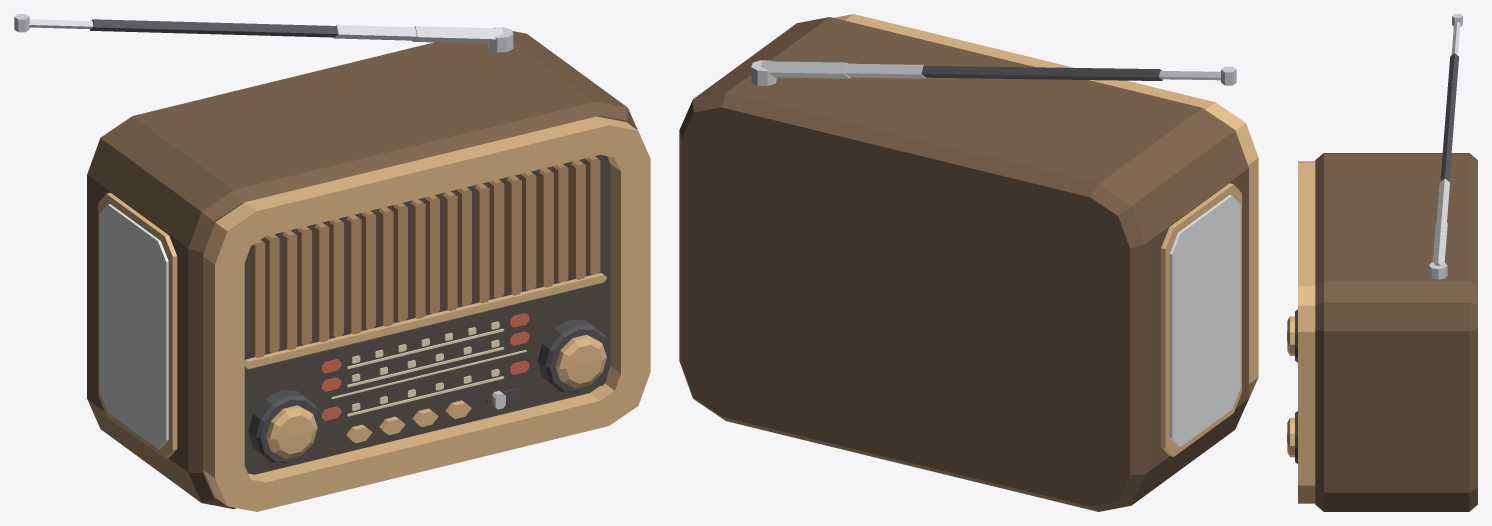
File: radio-retro.fbx
3 renders of one model, left to right at view 1: azimuth 30°, elevation 25°; view 2: azimuth 150°, elevation 25°; view 3: azimuth 270°, elevation 25°, orthographic. The views are drawn at different scales.
Visible parts, largest first — view 1: Frente, Gabinete, Controles, Antena; view 2: Gabinete, Antena, Frente; view 3: Gabinete, Frente, Antena, Controles.
Part boxes in pixels (x1,y1,x2,y2): Frente: (203, 116, 650, 511); Gabinete: (87, 27, 637, 508); Controles: (248, 319, 609, 463); Antena: (14, 14, 513, 52); Gabinete: (679, 17, 1248, 511); Antena: (751, 60, 1236, 85); Frente: (834, 14, 1258, 405); Gabinete: (1315, 153, 1477, 511); Frente: (1298, 161, 1315, 503); Antena: (1428, 14, 1462, 279); Controles: (1287, 309, 1297, 463).
Bounding box in the file's own units: 0.3054 × 0.2486 × 0.132.
